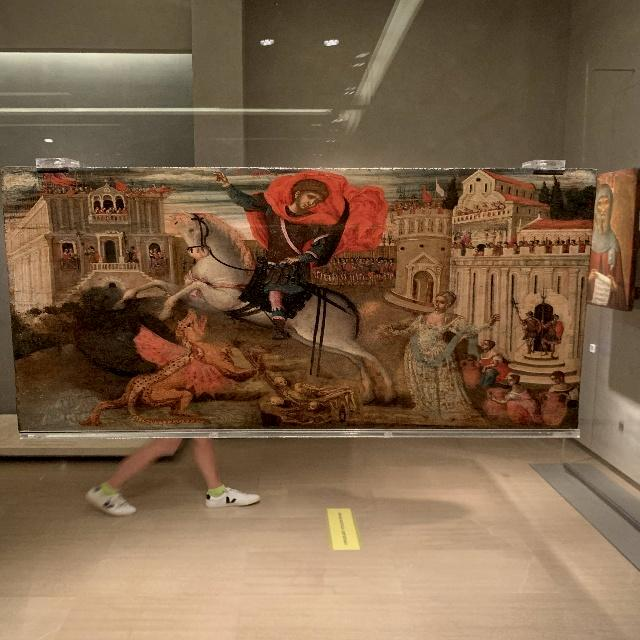dragon: (94, 315, 257, 425)
horse: (166, 210, 406, 406)
st_george: (216, 168, 383, 338)
